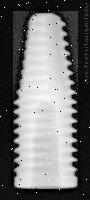Neodent: (13, 11, 78, 189)
